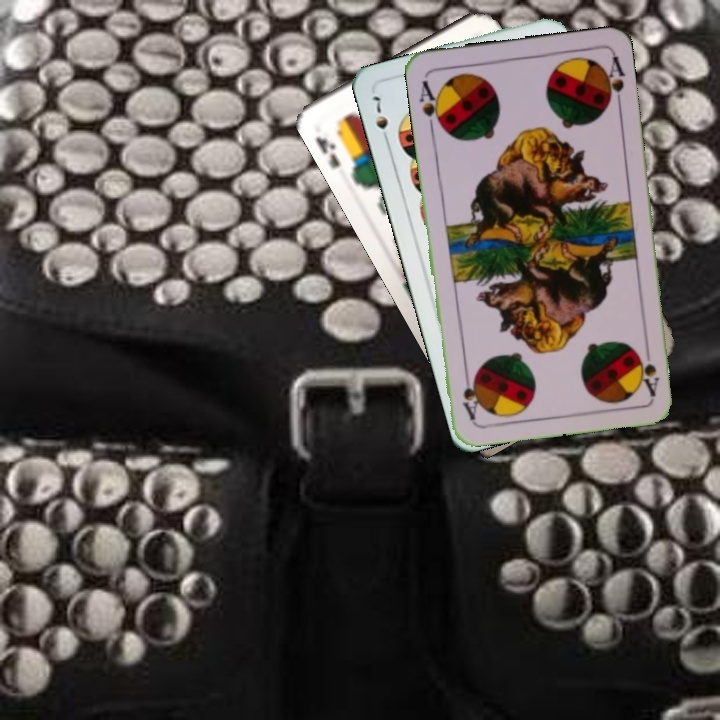EK: (311, 132, 343, 172)
S7: (368, 91, 392, 148)
SA: (415, 76, 446, 134), (634, 339, 662, 399)
